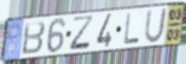4: (95, 12, 113, 50)
6: (46, 17, 67, 55)
B: (20, 20, 47, 57)
L: (122, 12, 141, 46)
U: (143, 7, 168, 44)
Z: (68, 14, 96, 52)
